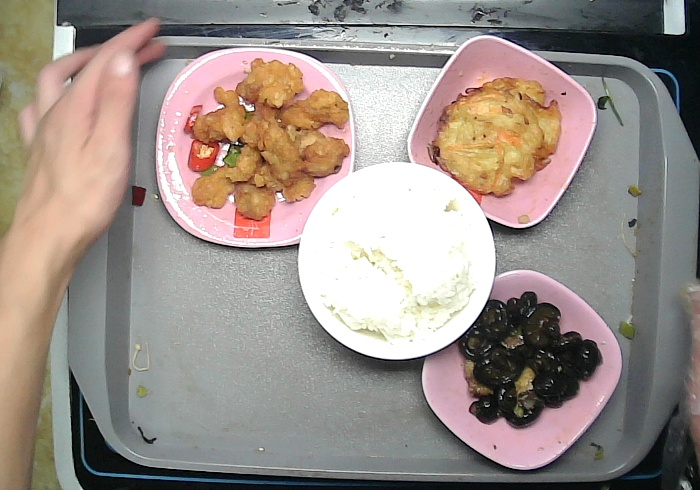SHKJ-Fan_Wan: (298, 161, 496, 359)
SHKJ-Fen_Se_Cai_Die: (422, 270, 623, 470)
SHKJ-Fen_Se_Si_Fang_Cai_Die: (155, 47, 355, 247)
SHKJ-Fen_Se_Xiao_Fang_Die: (408, 35, 597, 228)
